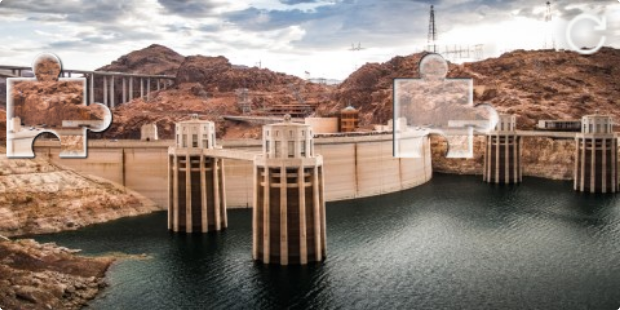target: (394, 54, 498, 159)
